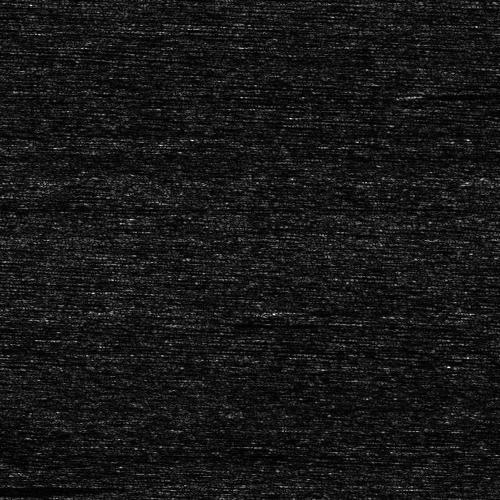rock: (163, 321, 226, 326), (396, 92, 437, 97), (265, 309, 318, 312)
shadow: (417, 92, 500, 97), (292, 309, 428, 312), (195, 321, 262, 326), (0, 379, 59, 382)
